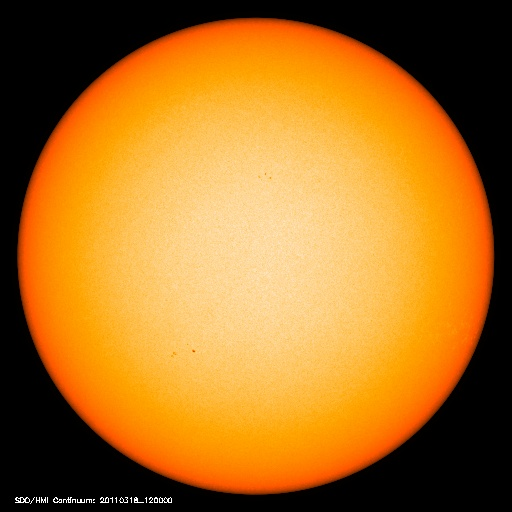sunspot: (162, 339, 203, 365)
